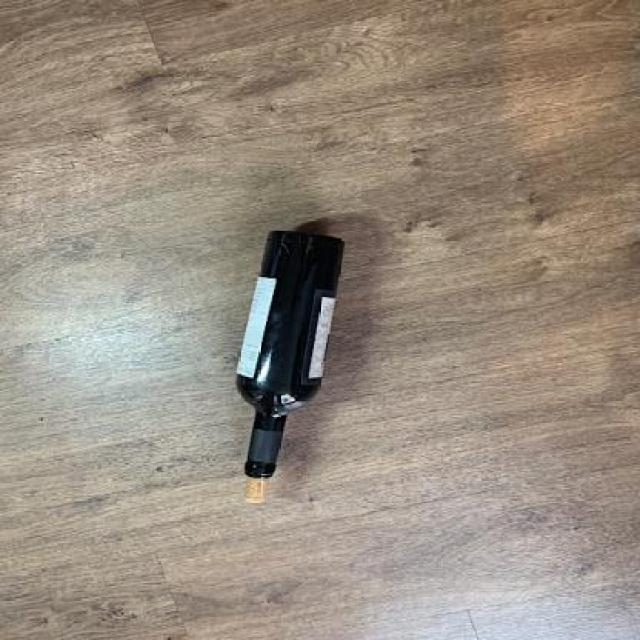trash: (222, 226, 352, 483)
